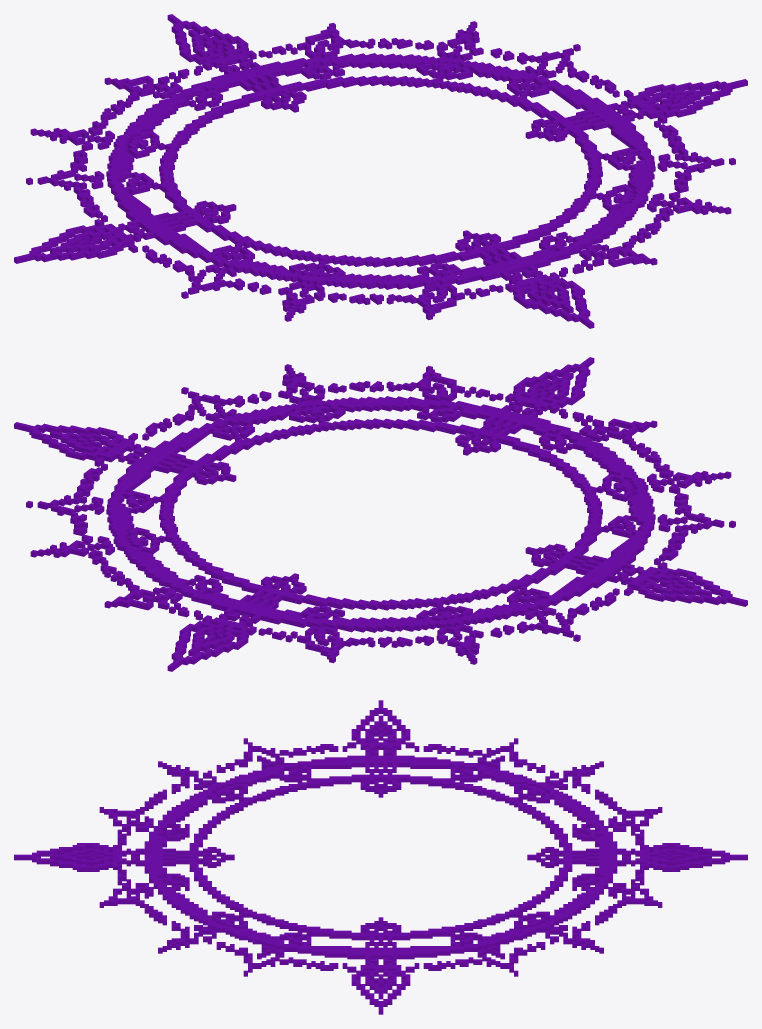
The model's file is 千年魂环.gltf.
The picture shows the model from 3 angles, top to bottom: view 1: azimuth 30°, elevation 25°; view 2: azimuth 150°, elevation 25°; view 3: azimuth 270°, elevation 25°; orthographic projection. The views are drawn at different scales.
Parts seen in each view (by area): view 1: Object; view 2: Object; view 3: Object.
Part boxes in pixels (left/top/right/bottom): Object: left=14, top=14, right=747, bottom=328; Object: left=14, top=357, right=747, bottom=671; Object: left=14, top=700, right=747, bottom=1014.
Size of the model in its own units: 163 by 1 by 163.
Materials: 1 (1 with a texture image).
